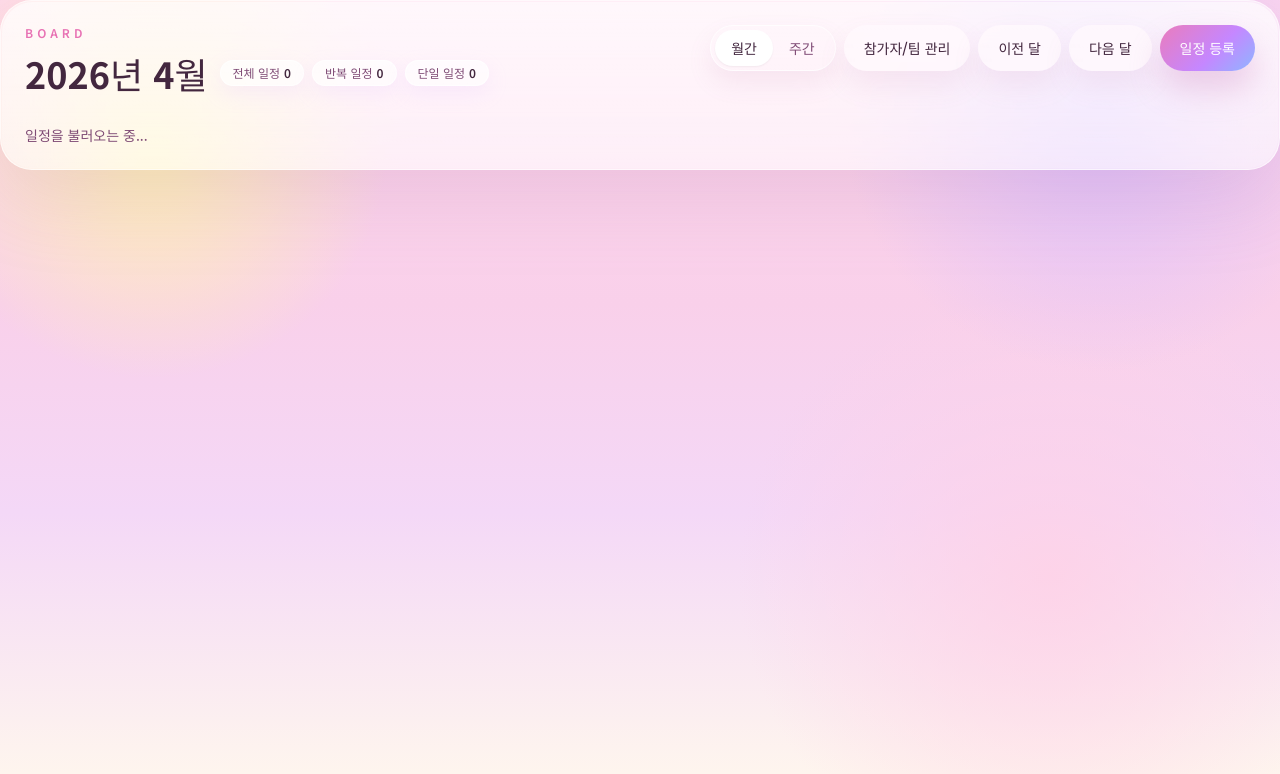
CalendarPage › keeps the latest month data when an earlier request resolves late
Click the button "다음 달" at (1110, 48), box [1069,25,1152,71]
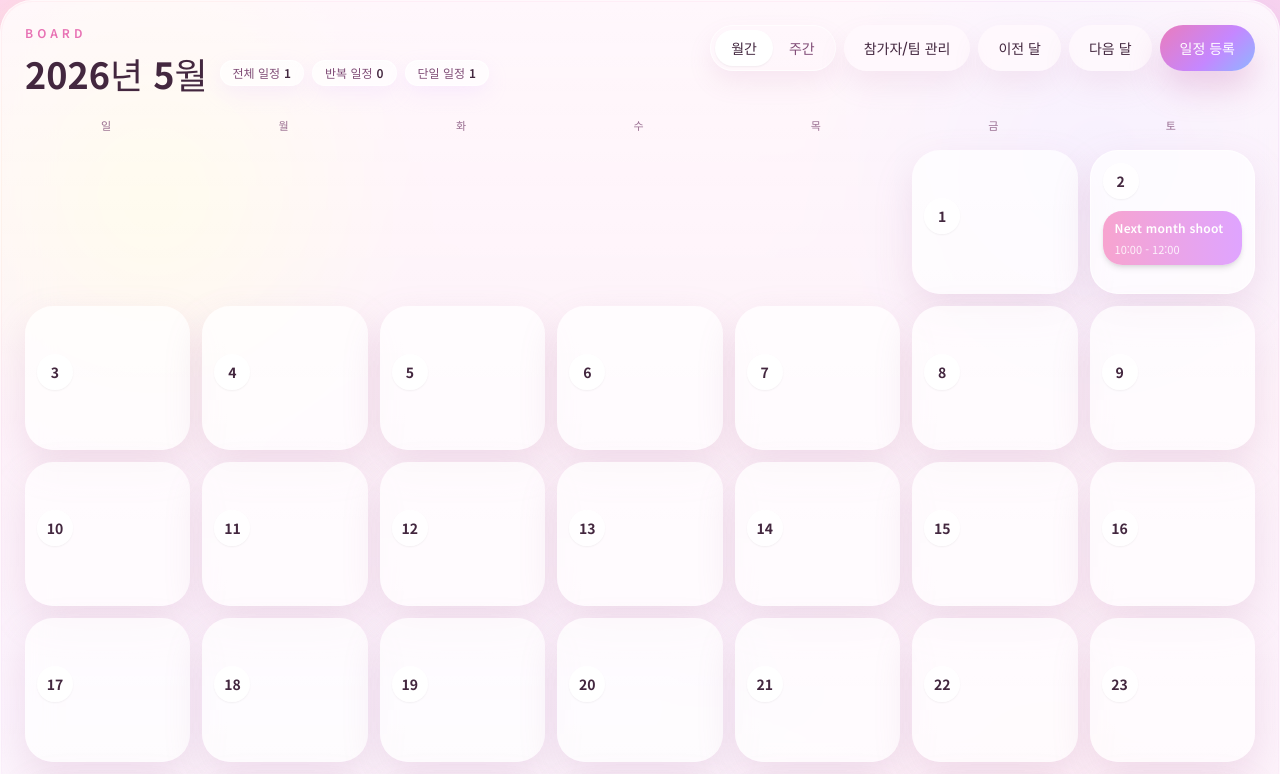
Result: the text "Next month shoot" is shown at [1115,218,1230,236]
